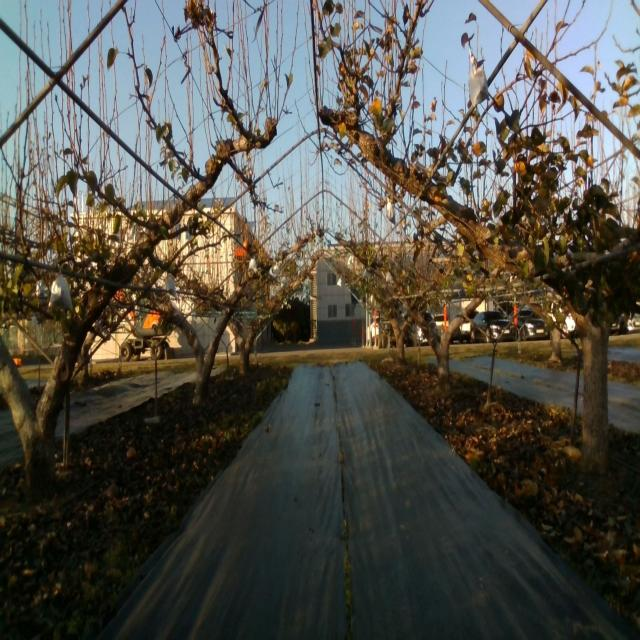pearbags: (468, 56, 490, 109), (48, 274, 73, 312), (165, 278, 177, 299), (248, 256, 258, 273)
